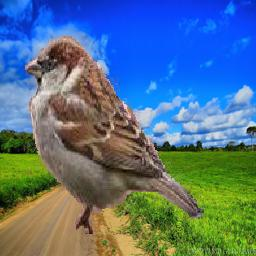Sparrow: (26, 36, 205, 234)
